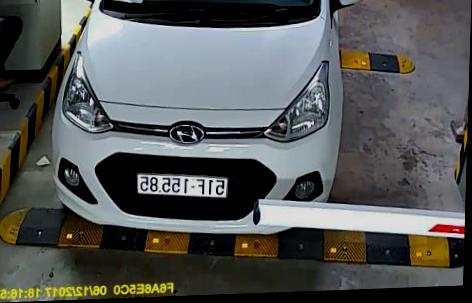License_Plate: (136, 168, 234, 201)
